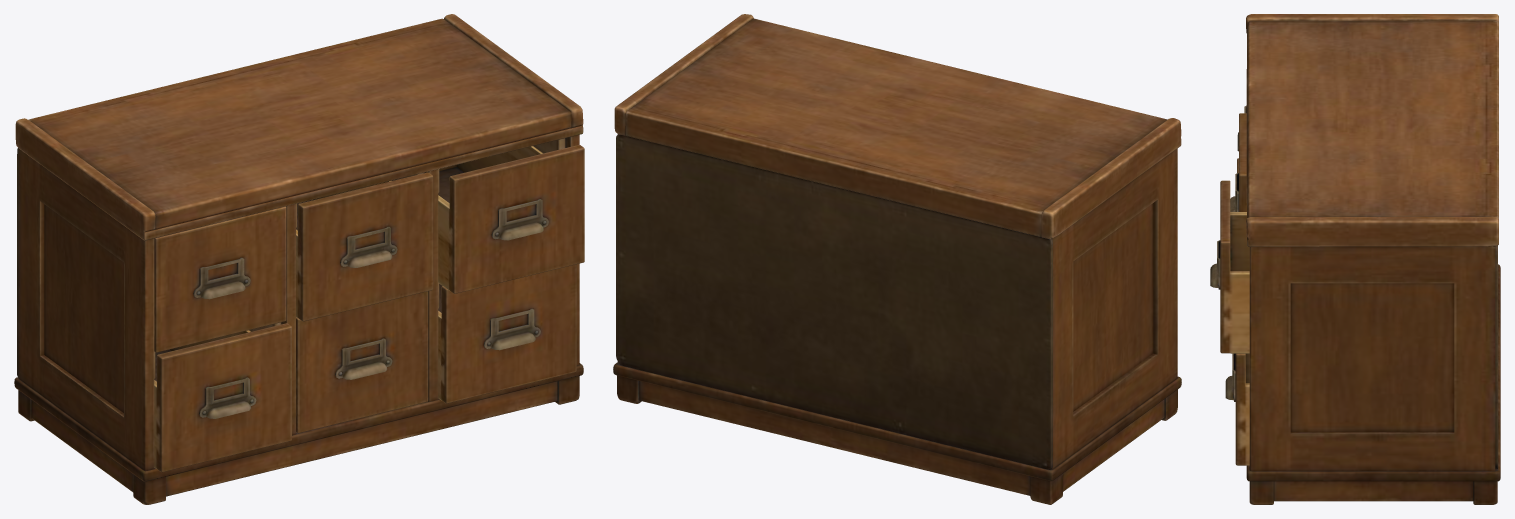
File: vintage_wooden_drawer_01.gltf
The picture shows the model from 3 angles, left to right: view 1: azimuth 30°, elevation 25°; view 2: azimuth 150°, elevation 25°; view 3: azimuth 270°, elevation 25°; orthographic projection. The views are drawn at different scales.
Parts seen in each view (by area): view 1: vintage_wooden_drawer_01_body, vintage_wooden_drawer_01_drawer03, vintage_wooden_drawer_01_drawer04, vintage_wooden_drawer_01_drawer02, vintage_wooden_drawer_01_drawer01, vintage_wooden_drawer_01_drawer06, vintage_wooden_drawer_01_drawer05; view 2: vintage_wooden_drawer_01_body; view 3: vintage_wooden_drawer_01_body, vintage_wooden_drawer_01_drawer03, vintage_wooden_drawer_01_drawer06, vintage_wooden_drawer_01_drawer02.
Boxes of the visible parts, <box> form: vintage_wooden_drawer_01_body: <box>14,14,583,504</box>; vintage_wooden_drawer_01_drawer03: <box>438,145,584,293</box>; vintage_wooden_drawer_01_drawer04: <box>154,323,291,472</box>; vintage_wooden_drawer_01_drawer02: <box>296,172,433,321</box>; vintage_wooden_drawer_01_drawer01: <box>154,206,286,352</box>; vintage_wooden_drawer_01_drawer06: <box>438,264,576,403</box>; vintage_wooden_drawer_01_drawer05: <box>296,291,428,433</box>; vintage_wooden_drawer_01_body: <box>613,14,1181,504</box>; vintage_wooden_drawer_01_body: <box>1246,14,1500,504</box>; vintage_wooden_drawer_01_drawer03: <box>1210,180,1249,353</box>; vintage_wooden_drawer_01_drawer06: <box>1225,353,1249,465</box>; vintage_wooden_drawer_01_drawer02: <box>1230,113,1246,211</box>.
Size of the model in its own units: 1.72 by 1.09 by 1.01.
Materials: 1 (1 with a texture image).
